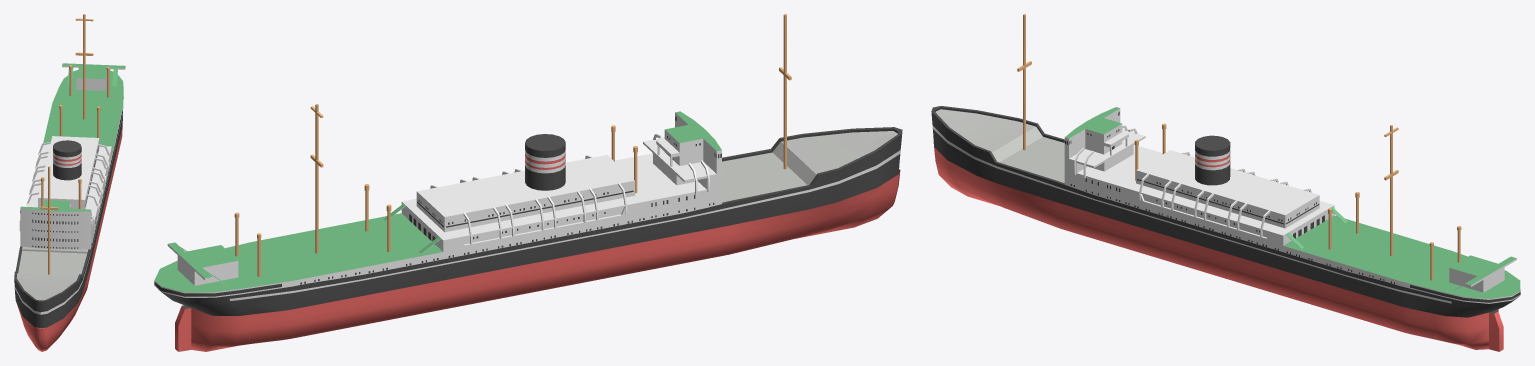
Rendered from 42hikawamaru.glb.
3 renders of one model, left to right at view 1: azimuth 30°, elevation 25°; view 2: azimuth 150°, elevation 25°; view 3: azimuth 270°, elevation 25°, orthographic. The views are drawn at different scales.
Parts seen in each view (by area): view 1: Hikawamaru; view 2: Hikawamaru; view 3: Hikawamaru.
Part boxes in pixels (left/top/right/bottom): Hikawamaru: left=14, top=14, right=125, bottom=351; Hikawamaru: left=154, top=14, right=902, bottom=351; Hikawamaru: left=931, top=14, right=1520, bottom=351.
Bounding box in the file's own units: 99 × 47.91 × 133.
